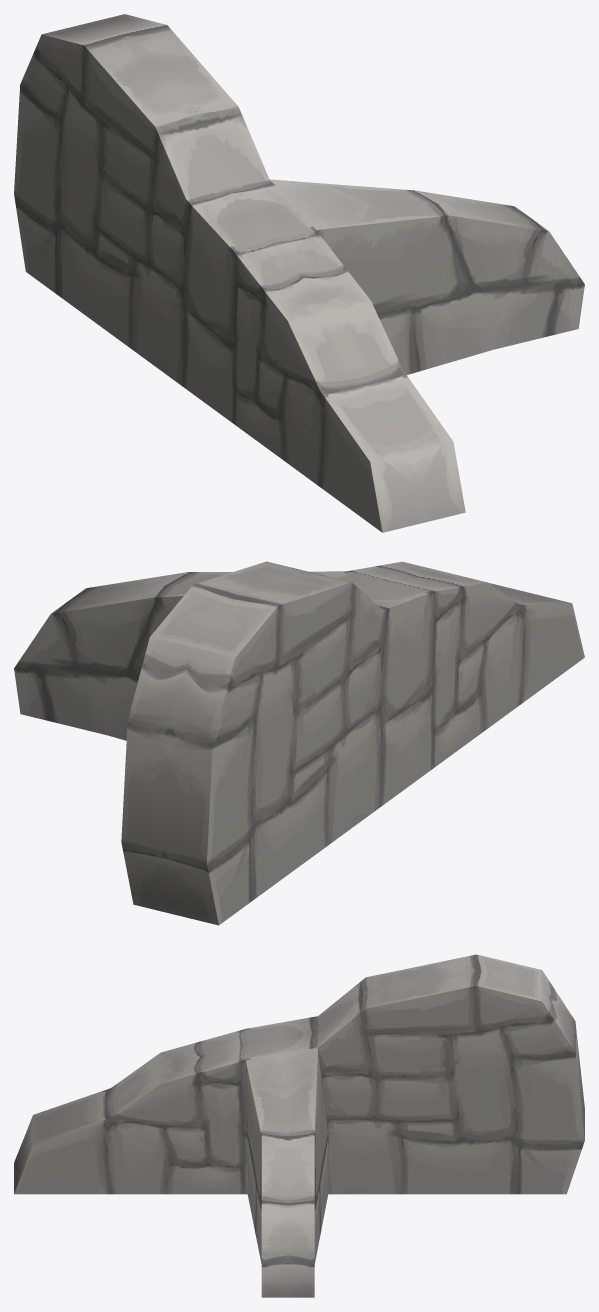
Rendered from RuinedWall03_Geo.fbx.
3 renders of one model, top to bottom at view 1: azimuth 30°, elevation 25°; view 2: azimuth 150°, elevation 25°; view 3: azimuth 270°, elevation 25°, orthographic. The views are drawn at different scales.
Visible parts, largest first — view 1: RuinedWall03_Geo; view 2: RuinedWall03_Geo; view 3: RuinedWall03_Geo.
Boxes of the visible parts, x1,y1,x2,y2 form: RuinedWall03_Geo: (14, 14, 584, 532); RuinedWall03_Geo: (14, 561, 584, 925); RuinedWall03_Geo: (14, 954, 584, 1297).
Bounding box in the file's own units: 119 × 84.66 × 210.
